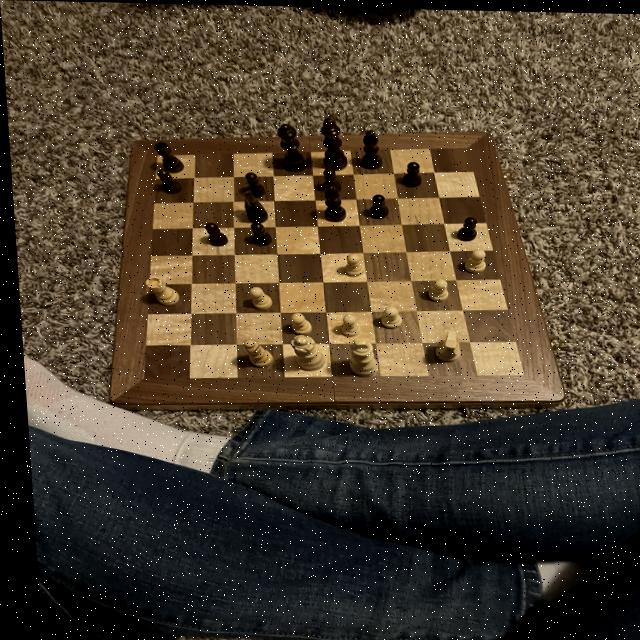bishop: (314, 178, 348, 224), (354, 127, 386, 171)
black-bishop: (315, 112, 346, 170)
black-king: (235, 187, 270, 224)
black-pawn: (269, 120, 308, 174)
black-queen: (149, 140, 183, 174), (312, 165, 345, 197), (395, 156, 426, 188), (449, 213, 482, 243), (240, 219, 273, 249), (196, 219, 227, 250), (358, 192, 390, 222), (237, 169, 267, 199), (147, 167, 180, 193)
black-rook: (234, 335, 272, 369)
white-bishop: (340, 335, 377, 378)
white-king: (422, 326, 460, 364)
white-knight: (455, 245, 490, 273), (330, 308, 360, 338), (242, 283, 273, 311), (371, 302, 402, 329), (420, 275, 449, 301), (283, 308, 312, 334), (336, 251, 363, 278)
white-pawn: (282, 329, 325, 374)
white-queen: (138, 274, 176, 306)
